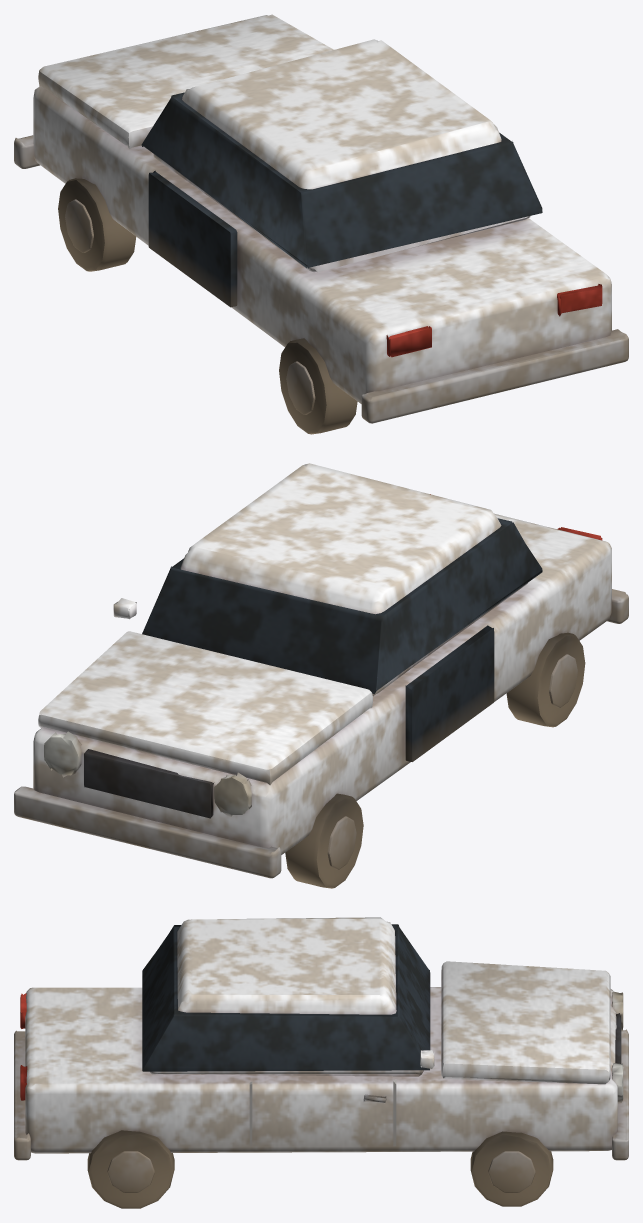
Rendered from wrecked_car.glb.
3 views of the same model, one above another, from view 1: azimuth 30°, elevation 25°; view 2: azimuth 150°, elevation 25°; view 3: azimuth 270°, elevation 25° (orthographic). The views are drawn at different scales.
Parts seen in each view (by area): view 1: WreckedCar; view 2: WreckedCar; view 3: WreckedCar.
Boxes of the visible parts, bbox=[...] form: WreckedCar: bbox=[14, 14, 628, 434]; WreckedCar: bbox=[14, 463, 628, 888]; WreckedCar: bbox=[14, 917, 628, 1208].
Bounding box in the file's own units: 1.95 × 1.57 × 4.36.
2 materials, 2 textured.
